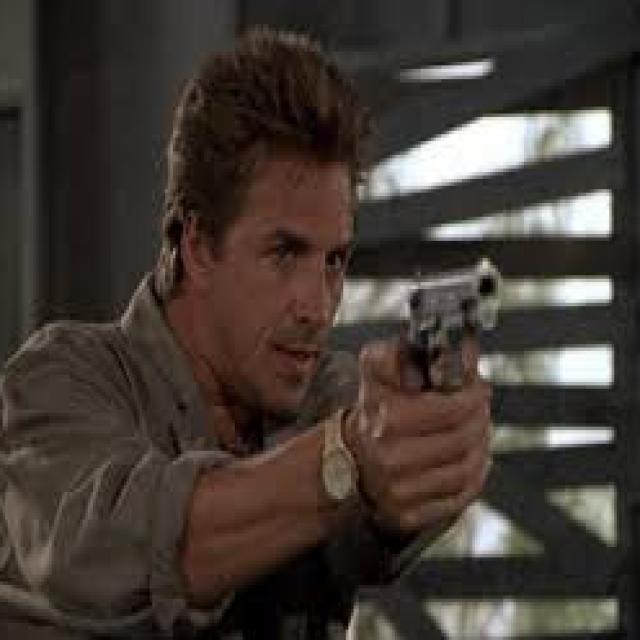gun: (361, 239, 532, 437)
